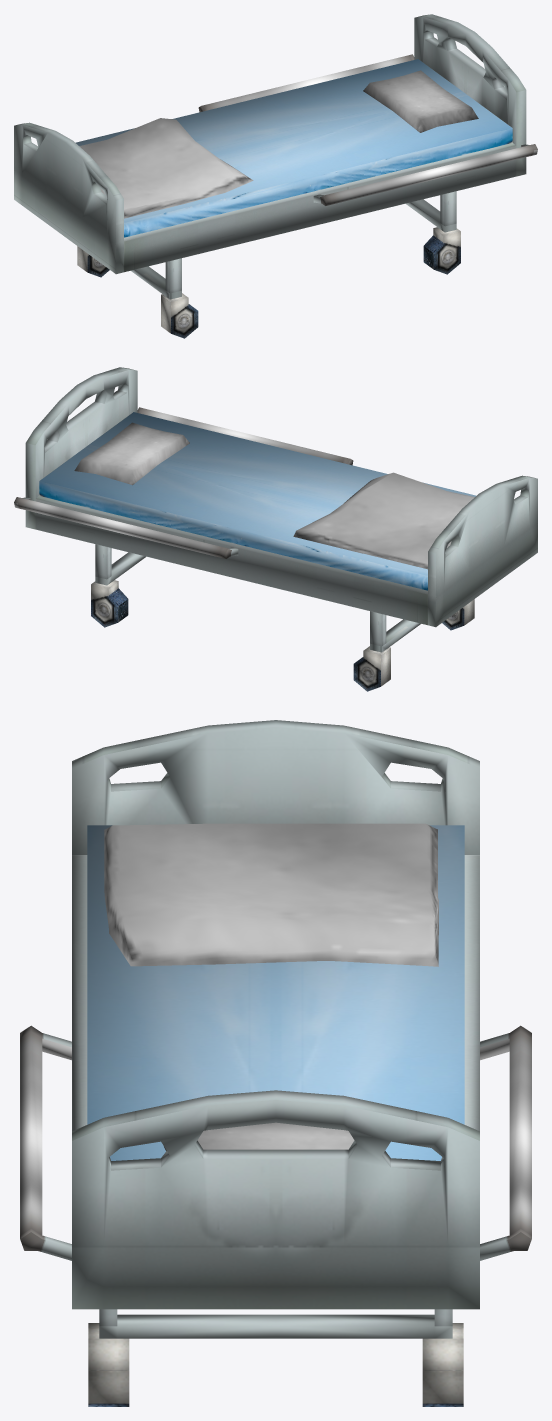
The model's file is Gurney.fbx.
The picture shows the model from 3 angles, top to bottom: view 1: azimuth 30°, elevation 25°; view 2: azimuth 150°, elevation 25°; view 3: azimuth 270°, elevation 25°; orthographic projection. The views are drawn at different scales.
Parts seen in each view (by area): view 1: Bed, BedSheets; view 2: Bed, BedSheets; view 3: Bed, BedSheets.
Part boxes in pixels (<box>): Bed: <box>14,14,537,338</box>; BedSheets: <box>79,70,478,218</box>; Bed: <box>14,367,537,691</box>; BedSheets: <box>74,422,474,569</box>; Bed: <box>20,720,531,1406</box>; BedSheets: <box>104,823,438,1150</box>.
Size of the model in its own units: 209 by 92.48 by 113.
2 materials, 2 textured.
